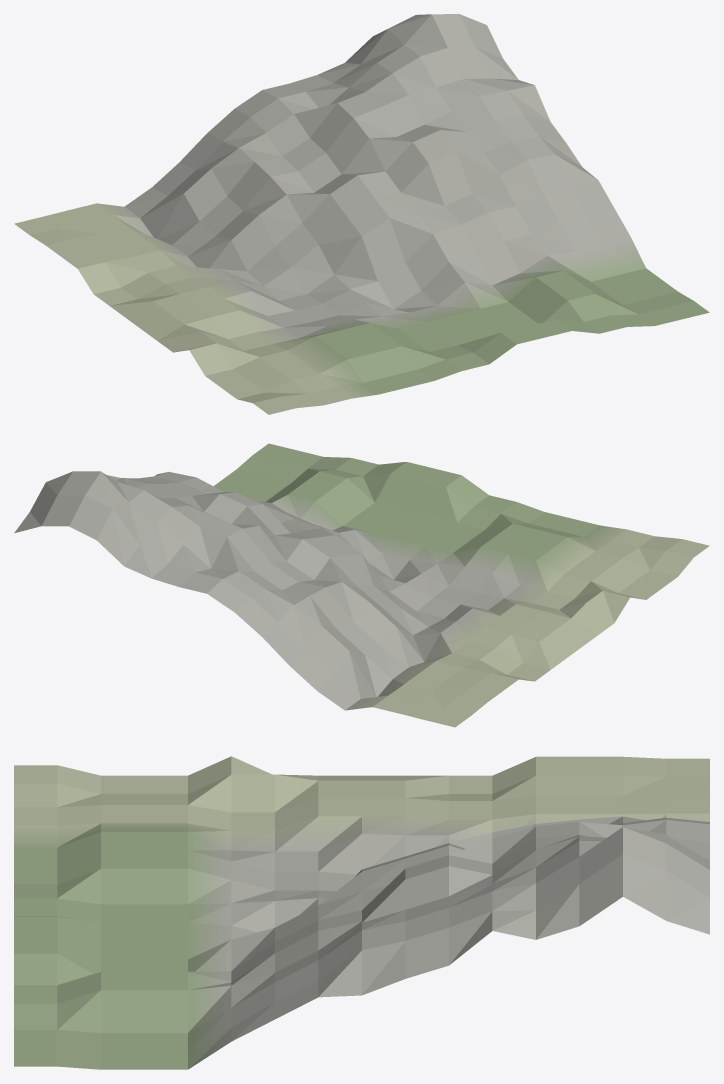
3 renders of one model, top to bottom at view 1: azimuth 30°, elevation 25°; view 2: azimuth 150°, elevation 25°; view 3: azimuth 270°, elevation 25°, orthographic. The views are drawn at different scales.
Bounding box in the file's own units: 32 × 11.18 × 32.
